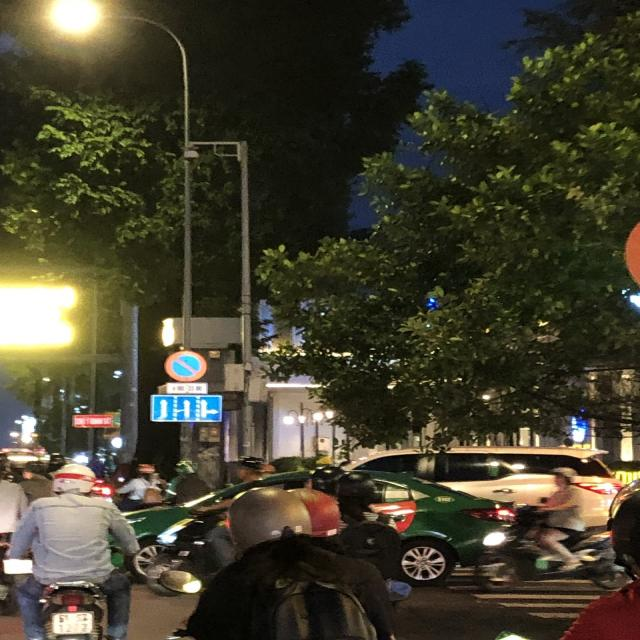Bien bao cam do xe: (160, 346, 209, 381)
